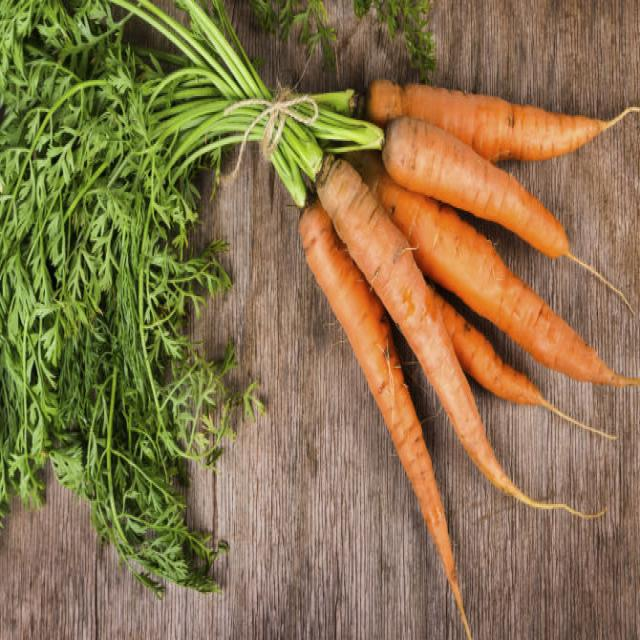Carrot: (365, 73, 615, 159)
